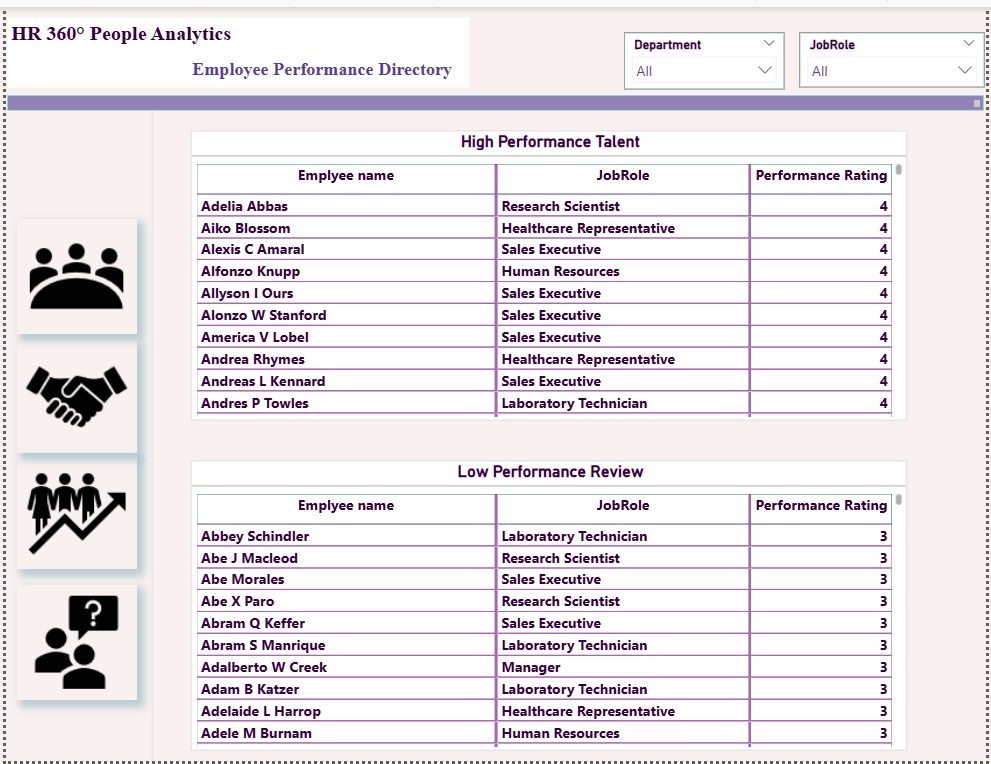

The page's visual inventory and layout, read from the dashboard file:
{"tool":"powerbi","page":{"name":"Employee Performance Directory","canvas":[1300,1000],"ordinal":3},"visuals":[{"type":"textbox","box":[2,13.9,612.7,93.5],"z":0},{"type":"textbox","box":[2.2,117.1,1294.6,19.9],"z":1000},{"type":"shape","box":[172.3,137,42,863.8],"z":2000},{"type":"tableEx","title":"High Performance Talent","fields":{"Values":["HR employee data.Emplyee name","HR Analytics Data.JobRole","HR Analytics Data.PerformanceRating"]},"box":[244.7,163.1,950.9,385.9],"z":3000},{"type":"tableEx","title":"Low Performance Review","fields":{"Values":["HR employee data.Emplyee name","HR Analytics Data.JobRole","HR Analytics Data.PerformanceRating"]},"box":[244.7,600.8,950.9,385.9],"z":4000},{"type":"slicer","fields":{"Values":["HR Analytics Data.Department"]},"box":[819.8,33.8,212.9,75.6],"z":5000},{"type":"slicer","fields":{"Values":["HR Analytics Data.JobRole"]},"box":[1052.3,34,245.2,72.9],"z":6000},{"type":"group","id":"g1","title":"Group 1","box":[13.3,280.6,159.8,638.6],"z":7000},{"type":"image","box":[13.3,280.6,159.1,152.4],"z":9000,"group":"g1"},{"type":"image","box":[13.3,592.1,159.1,152.4],"z":10000,"group":"g1"},{"type":"image","box":[14,766,159.2,153.2],"z":11000,"group":"g1"},{"type":"image","box":[13.3,441.9,159.1,150.2],"z":16001,"group":"g1"}]}

Visuals, with their boxes in screenshot pixels (x1, y1, x2, y2), scaled from the page's 1300x1000 canvas onto the 991x764 screenshot:
textbox: box=[2, 11, 469, 82]
textbox: box=[2, 89, 989, 105]
shape: box=[131, 105, 163, 763]
"High Performance Talent" tableEx: box=[187, 125, 911, 419]
"Low Performance Review" tableEx: box=[187, 459, 911, 754]
slicer - HR Analytics Data.Department: box=[625, 26, 787, 84]
slicer - HR Analytics Data.JobRole: box=[802, 26, 989, 82]
"Group 1" group: box=[10, 214, 132, 702]
image: box=[10, 214, 131, 331]
image: box=[10, 452, 131, 569]
image: box=[11, 585, 132, 702]
image: box=[10, 338, 131, 452]
